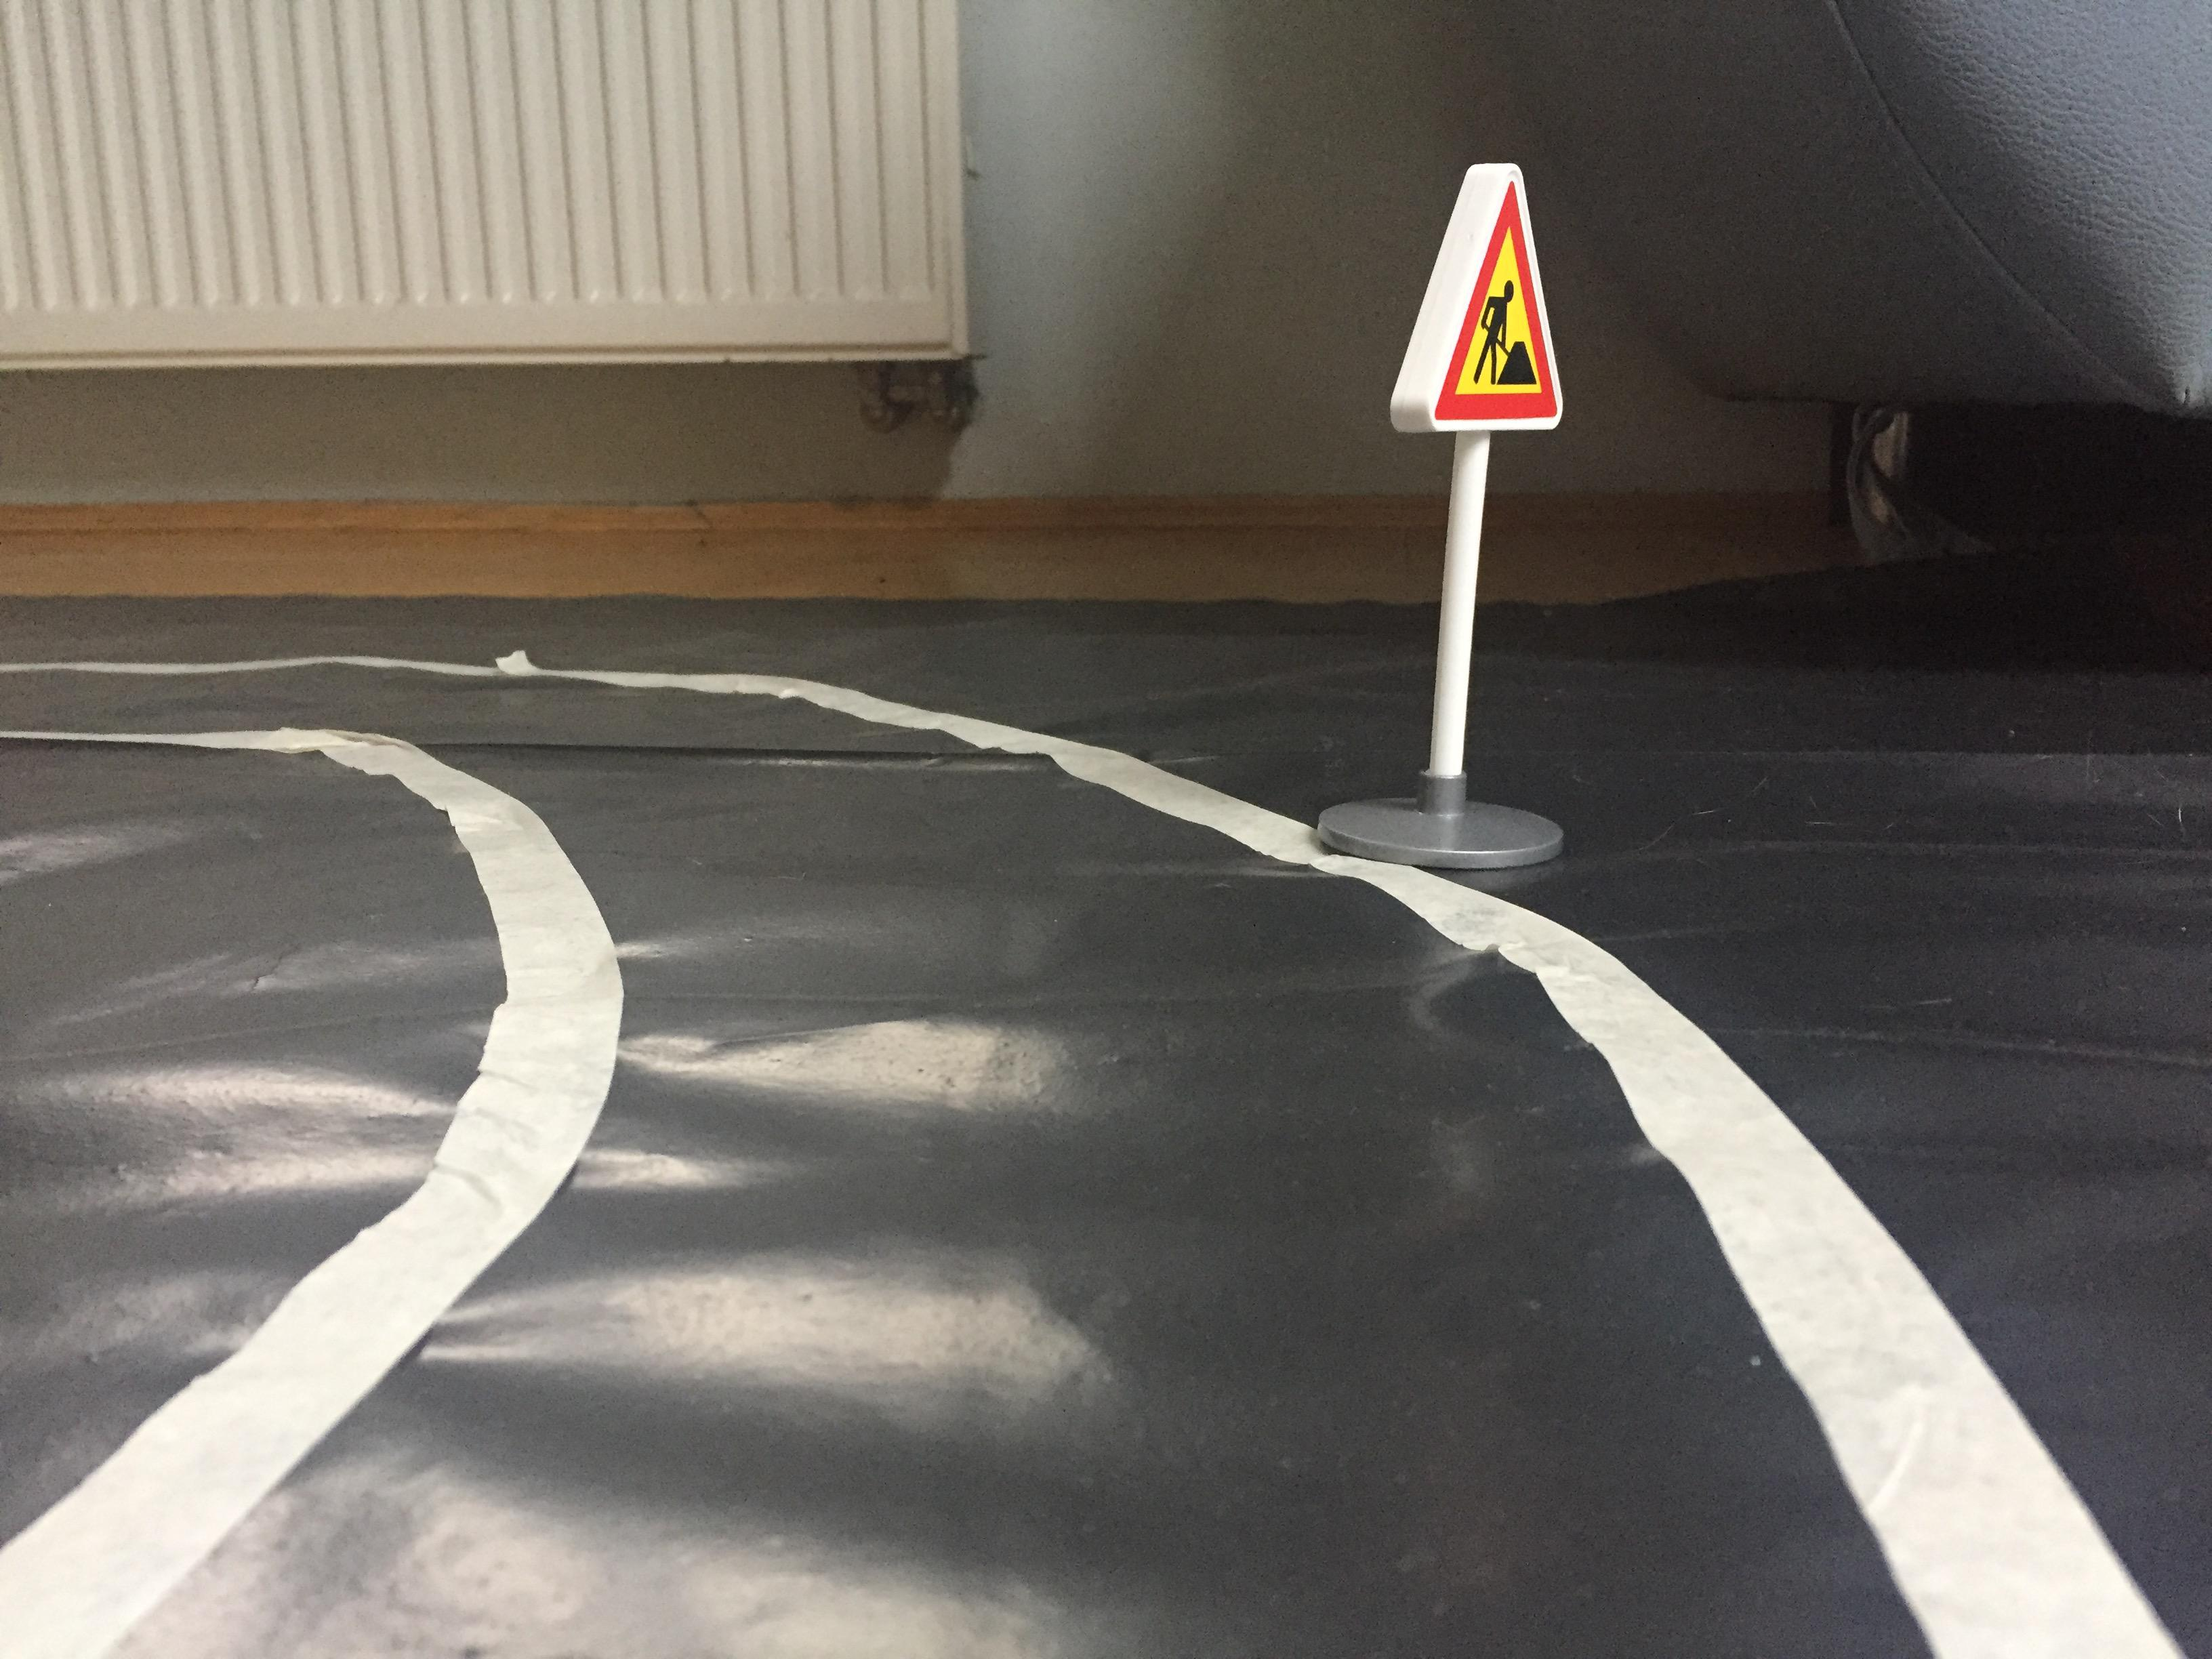work: (1378, 143, 1595, 451)
